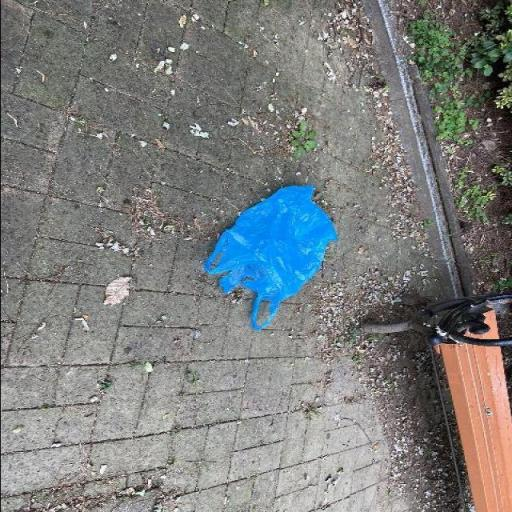plastic-bag: (199, 183, 338, 332)
